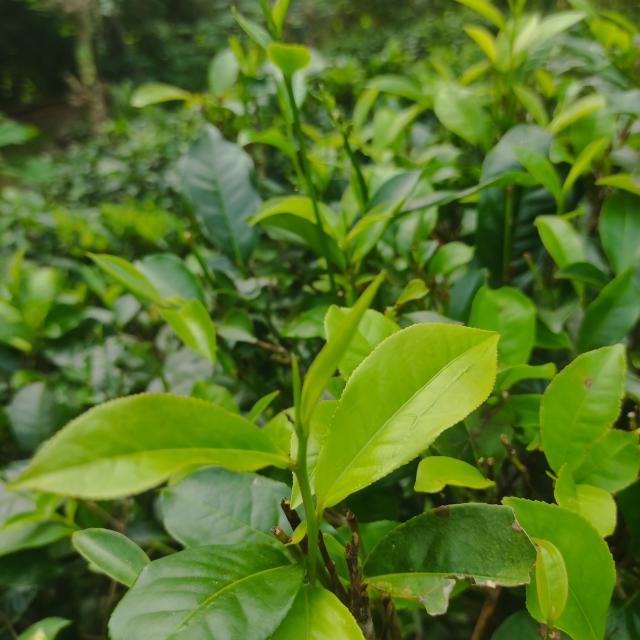unopened_leaf: (295, 262, 400, 422), (282, 335, 315, 446), (251, 0, 281, 39)
